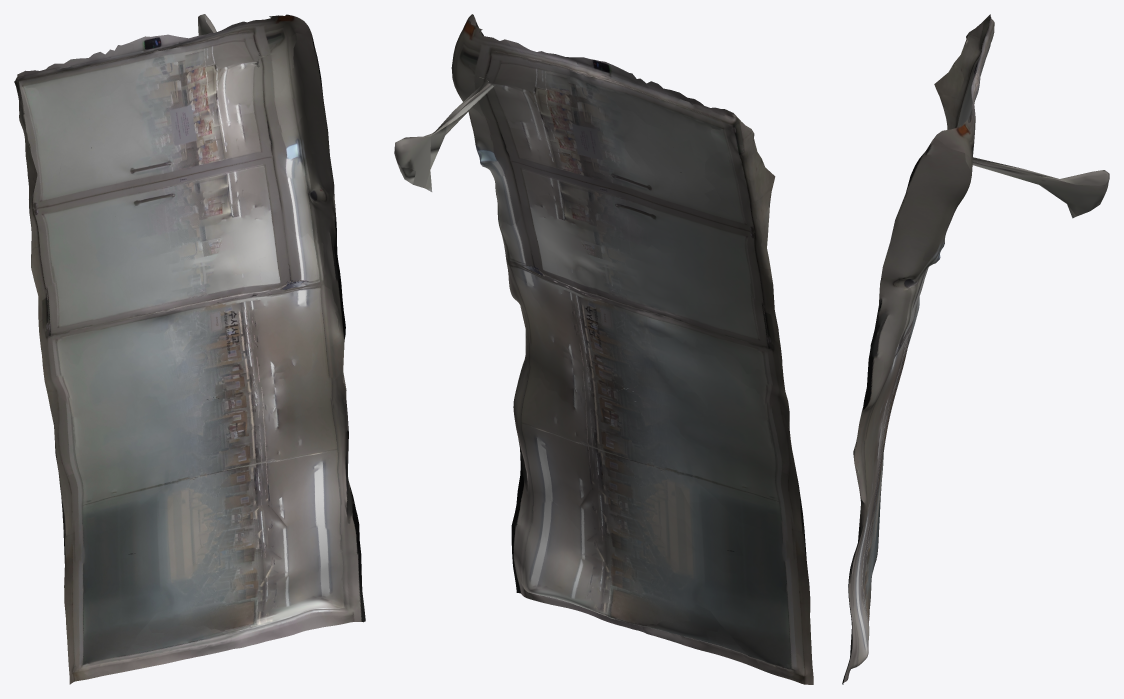
Rendered from 경비실옆.fbx.
3 renders of one model, left to right at view 1: azimuth 30°, elevation 25°; view 2: azimuth 150°, elevation 25°; view 3: azimuth 270°, elevation 25°, orthographic. The views are drawn at different scales.
Visible parts, largest first — view 1: Untitled.001; view 2: Untitled.001; view 3: Untitled.001.
Boxes of the visible parts, x1,y1,x2,y2 form: Untitled.001: [14, 14, 365, 684]; Untitled.001: [394, 14, 813, 684]; Untitled.001: [842, 14, 1109, 684].
Size of the model in its own units: 935 by 1808 by 785.
1 material, 1 textured.
